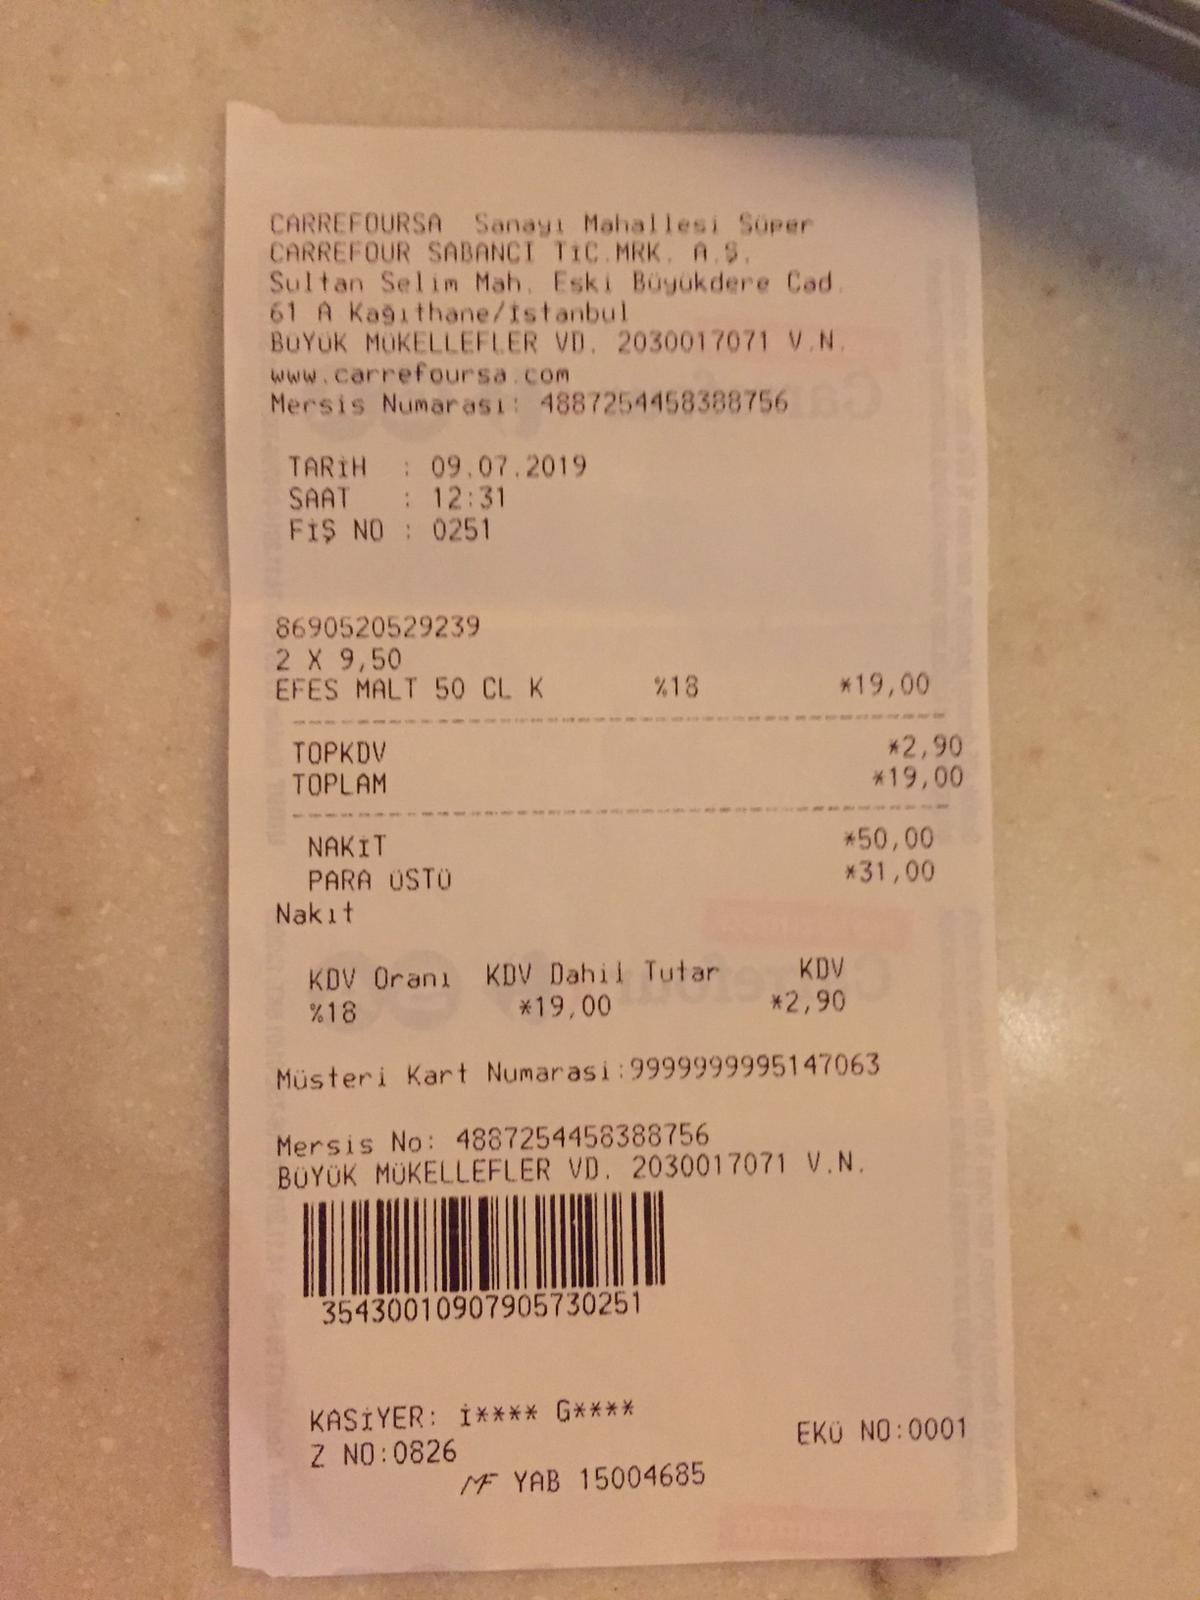total: (291, 760, 970, 803)
